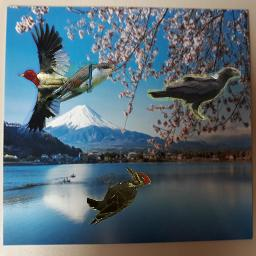Crow: (147, 67, 241, 120)
Cuckoo: (35, 62, 116, 104)
Woodpecker: (17, 22, 90, 135), (87, 167, 151, 226)
